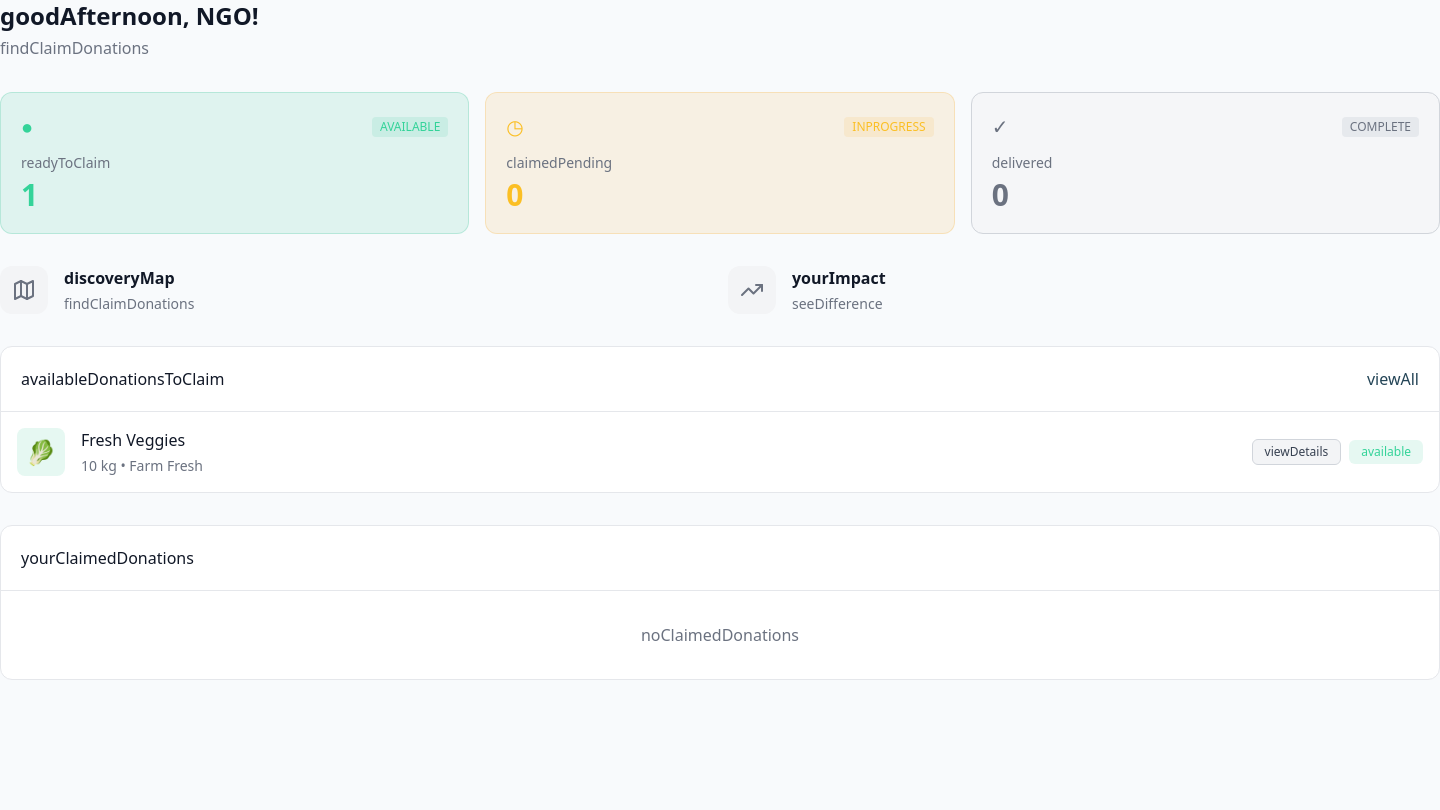
Test: ClaimDonation UI Flows › When user clicks "Claim Donation", item is removed and state updates to "Claimed"
Expected: the text "Fresh Veggies" is shown, [81,428,185,452]
Note: Click "viewDetails" to open the detail modal housing the claim button
Click the button "viewDetails": (1296, 452) [1252,439,1341,465]
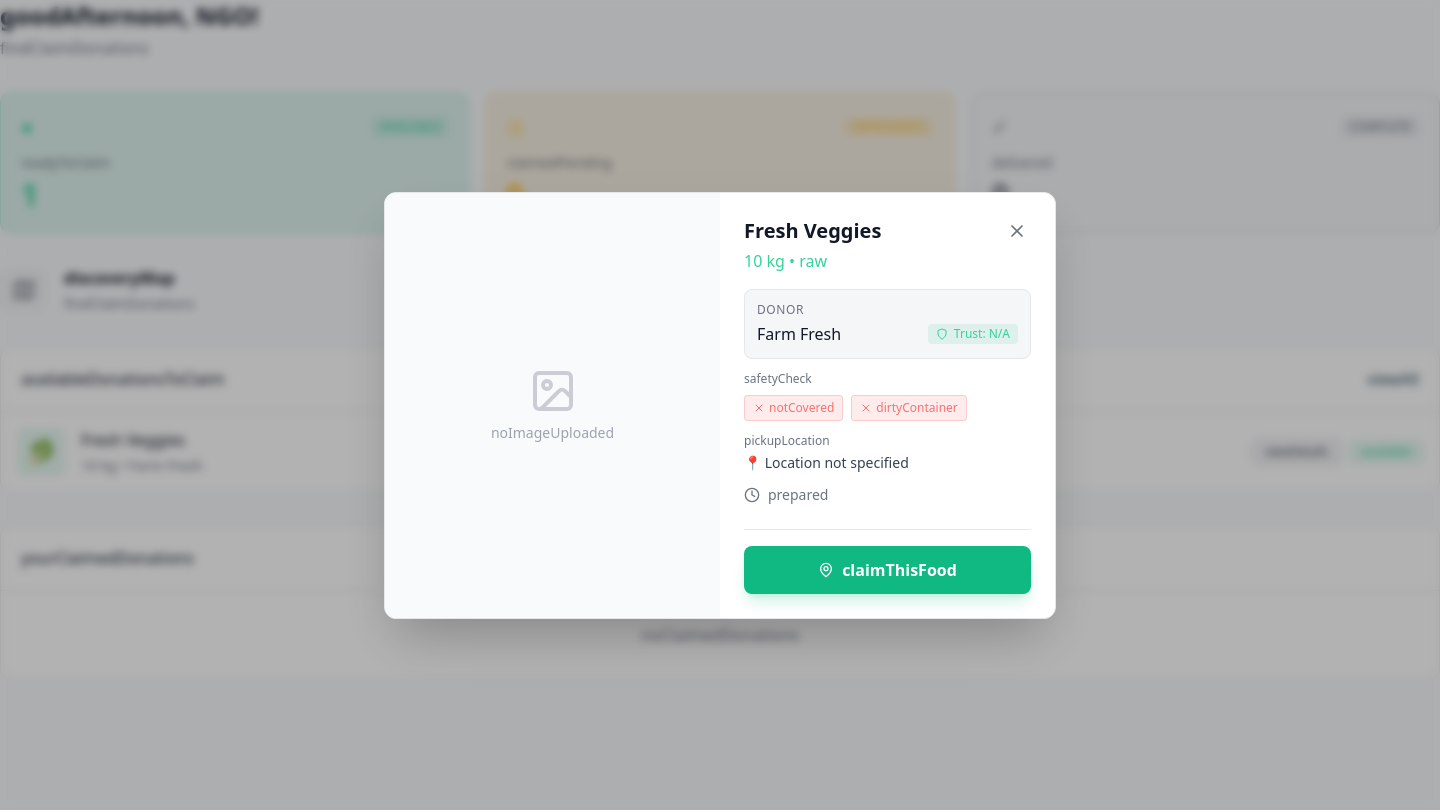
Expected: the button "claimThisFood" is shown
Click the button "claimThisFood": (888, 570) [744,546,1031,594]
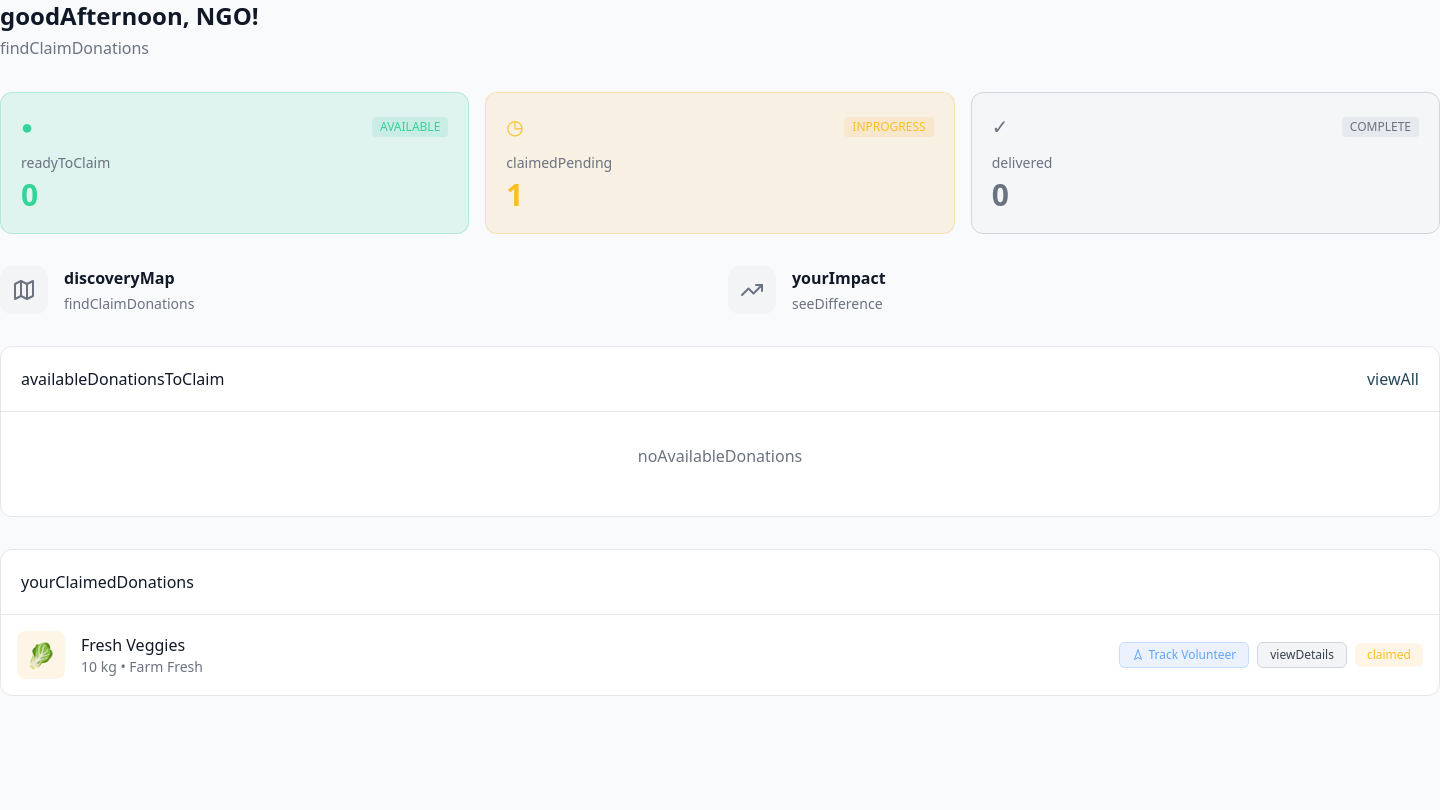
Expected: the text "claimed" is shown, [1355,643,1423,667]
